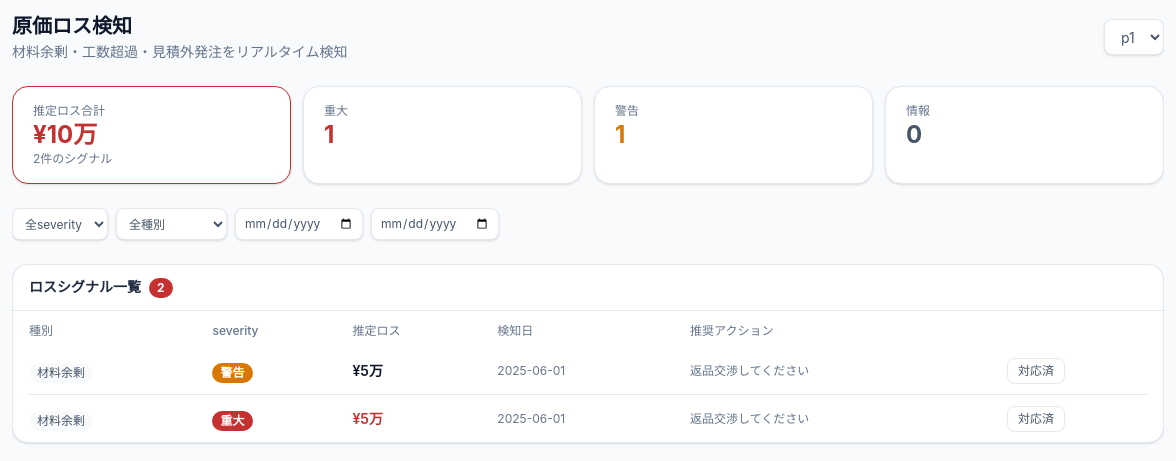
Test: CostLossDashboardPage › リセットボタンでフィルタがクリアされる
Select "重大" in the dropdown named "severity フィルタ" at [60, 224], box x1=12 y1=208 x2=108 y2=240
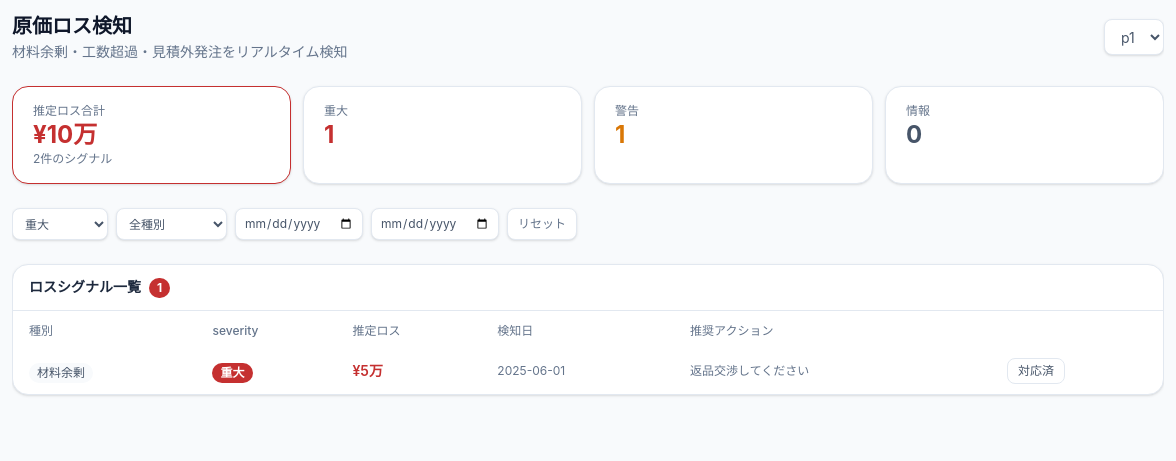
Click the button "リセット" at [542, 224], box x1=507 y1=208 x2=577 y2=240
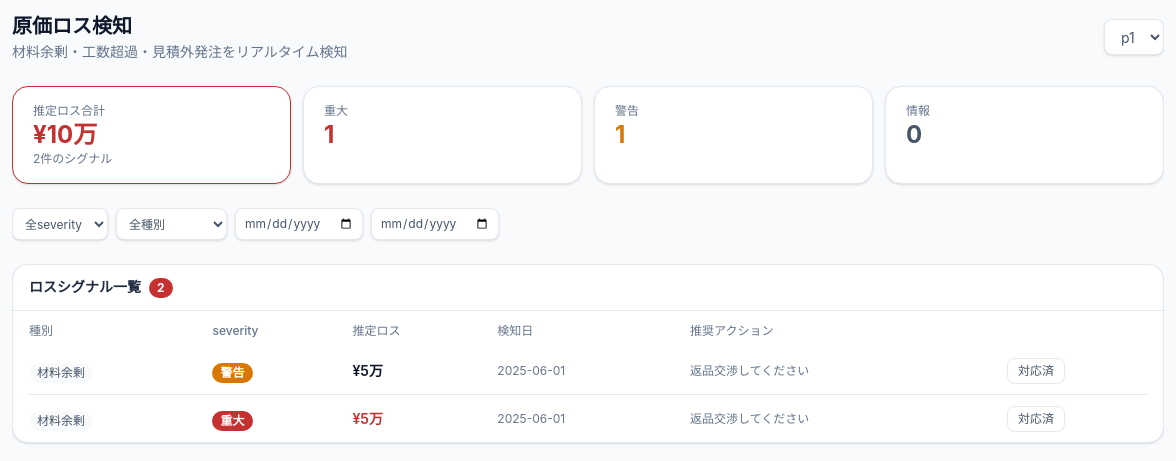
Check: the number of buttons "対応済" is 2, box x1=1007 y1=358 x2=1065 y2=384; x1=1007 y1=406 x2=1065 y2=432
